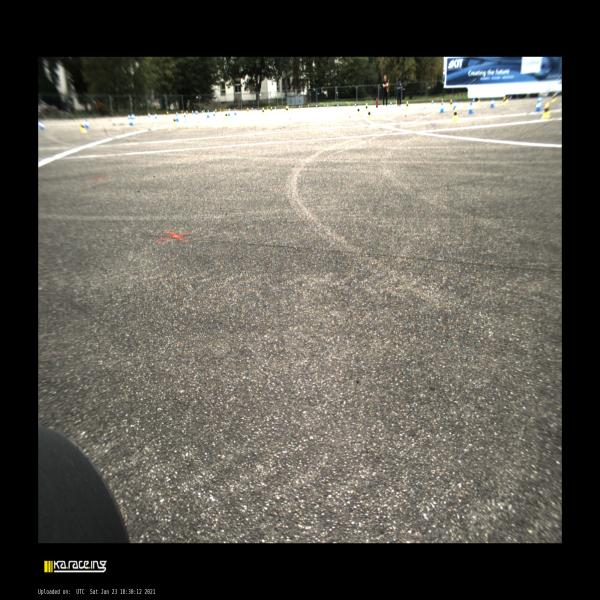blue_cone: (534, 99, 542, 112), (467, 102, 474, 114), (536, 96, 542, 106), (453, 100, 458, 110), (439, 103, 444, 112), (85, 119, 90, 128), (490, 98, 494, 108), (40, 121, 44, 130), (129, 118, 134, 125), (176, 112, 179, 122), (234, 109, 237, 116), (207, 110, 209, 117), (228, 109, 230, 116), (213, 110, 215, 116), (132, 114, 134, 120), (155, 113, 157, 119), (184, 112, 186, 118), (472, 98, 475, 102), (128, 115, 130, 119), (148, 113, 150, 117), (196, 110, 198, 114), (337, 104, 339, 108), (432, 100, 434, 104), (510, 96, 512, 100), (274, 107, 276, 110), (390, 102, 392, 105), (192, 110, 193, 115), (195, 110, 196, 114), (202, 110, 203, 114), (299, 105, 300, 109), (316, 104, 317, 108), (327, 104, 328, 108), (355, 103, 356, 107), (252, 108, 253, 110)
yellow_cone: (541, 103, 550, 118), (451, 108, 459, 122), (80, 120, 87, 132), (366, 109, 372, 120), (449, 99, 454, 108), (551, 93, 556, 102), (502, 96, 506, 106), (173, 116, 176, 126), (357, 106, 360, 116), (224, 113, 228, 120), (365, 103, 368, 112), (406, 101, 409, 110), (262, 107, 264, 116), (477, 98, 480, 103), (181, 110, 183, 117), (247, 107, 249, 114), (286, 106, 288, 113), (186, 110, 188, 116), (215, 108, 217, 114), (271, 106, 273, 112), (442, 98, 444, 104), (203, 109, 205, 114), (223, 108, 225, 113), (225, 108, 227, 113), (348, 103, 350, 108), (506, 96, 508, 101), (228, 108, 230, 112), (301, 104, 303, 108), (167, 111, 168, 117), (220, 108, 221, 113), (267, 106, 268, 111), (308, 104, 309, 109), (324, 104, 325, 109), (288, 105, 289, 109), (396, 101, 397, 105), (234, 108, 235, 110)
